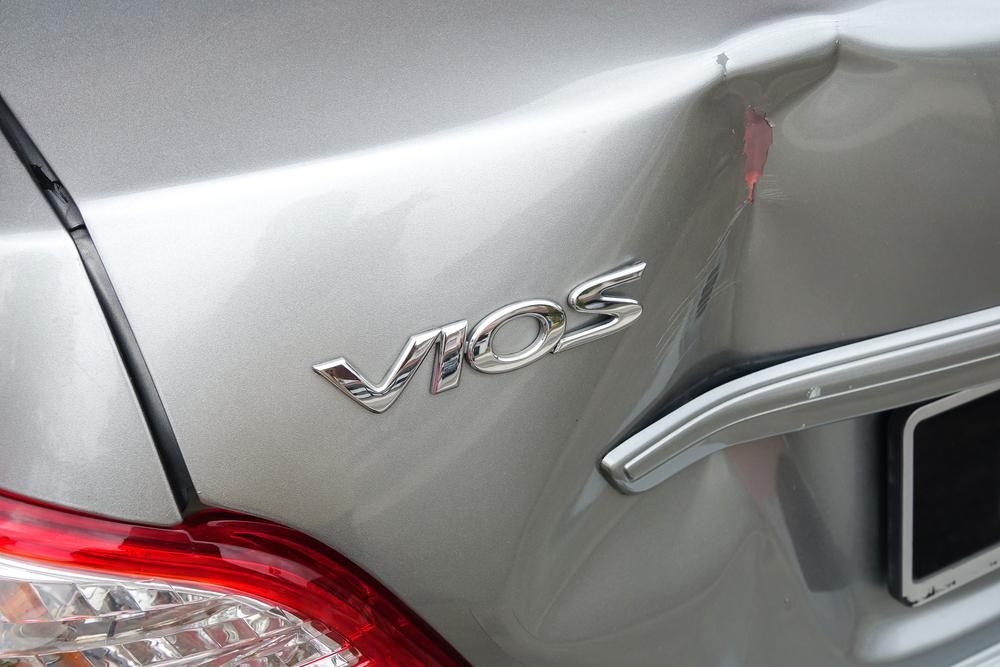dent: (513, 37, 899, 642)
